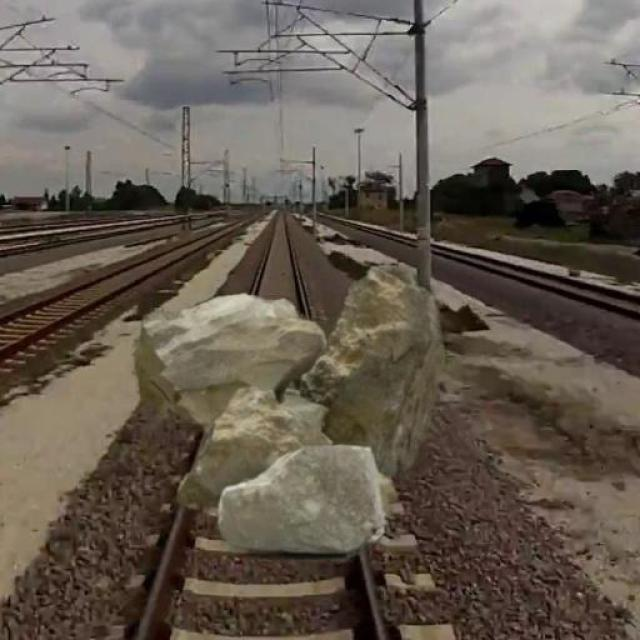Stone: (126, 259, 447, 559)
